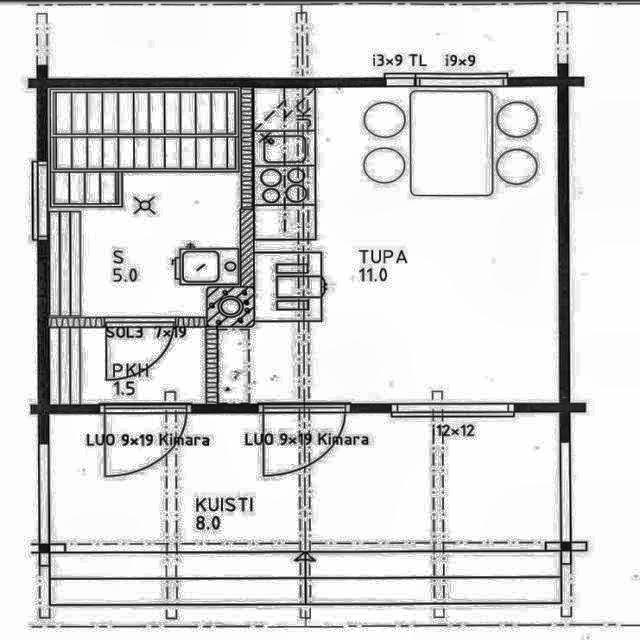room: (50, 328, 206, 404)
